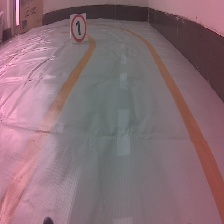limit: (68, 12, 89, 47)
